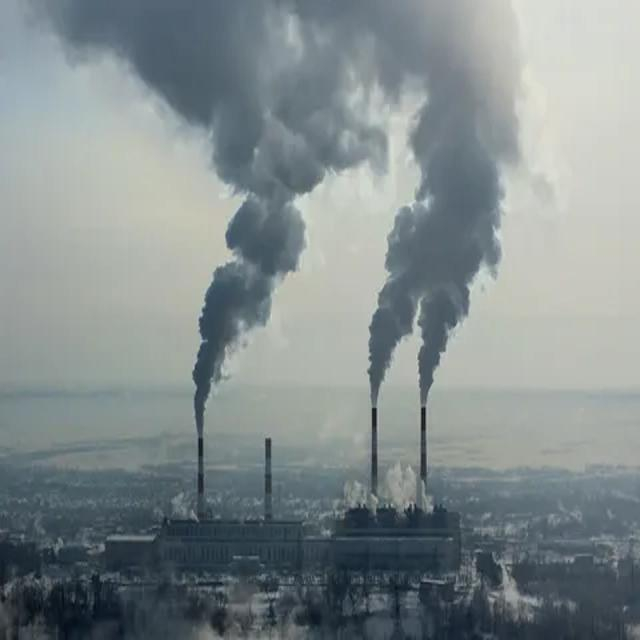Smoke: (154, 1, 332, 434), (371, 9, 524, 399)
